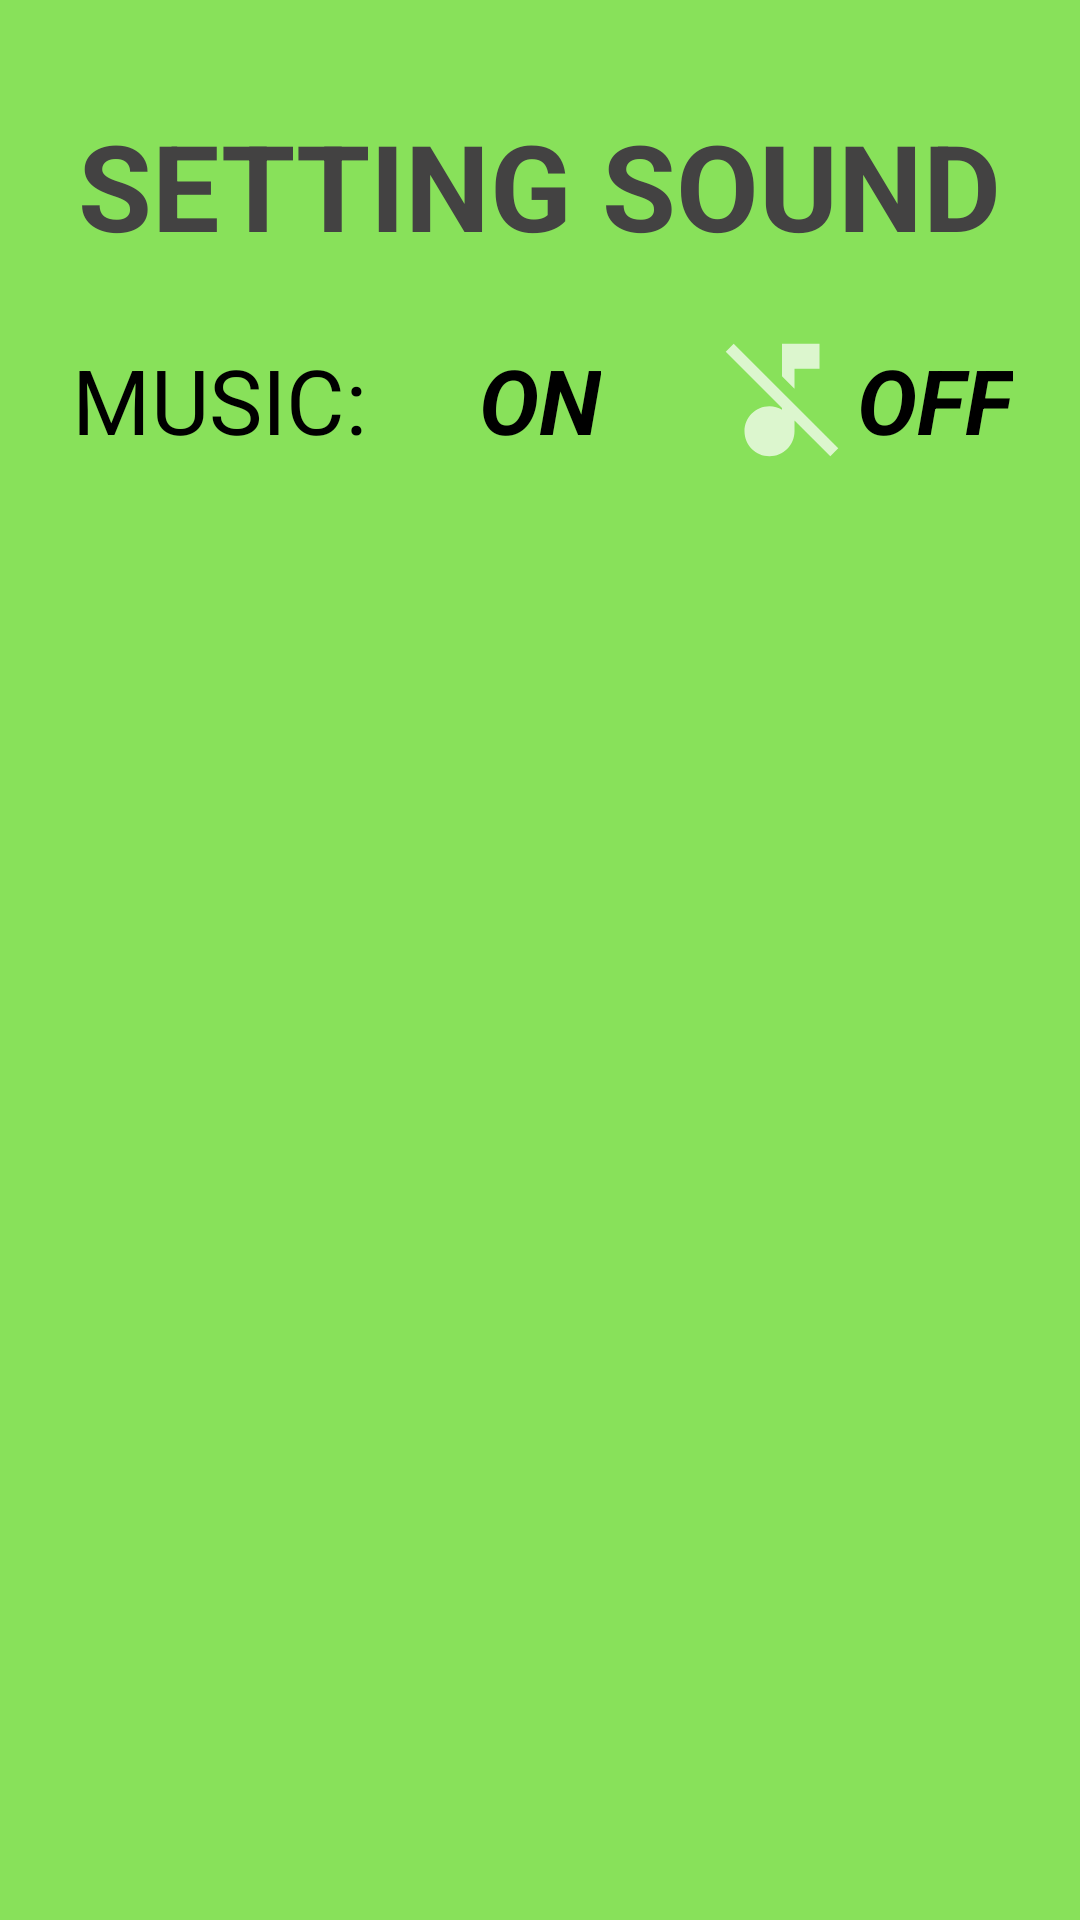

Icon bounding boxes for this 1080×1920 phone screenshot, format rect(x1, y1, x2, y2):
music off: rect(726, 343, 838, 457)
